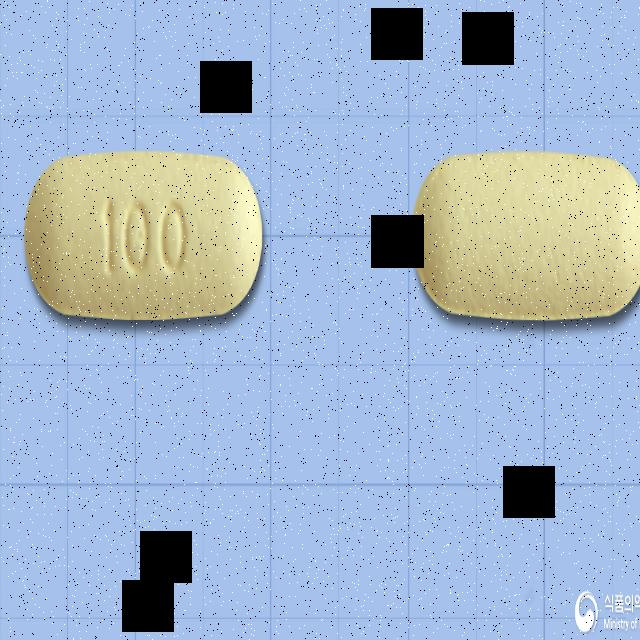Noxafil Gastro-Resistant Tab: (25, 149, 264, 324)
